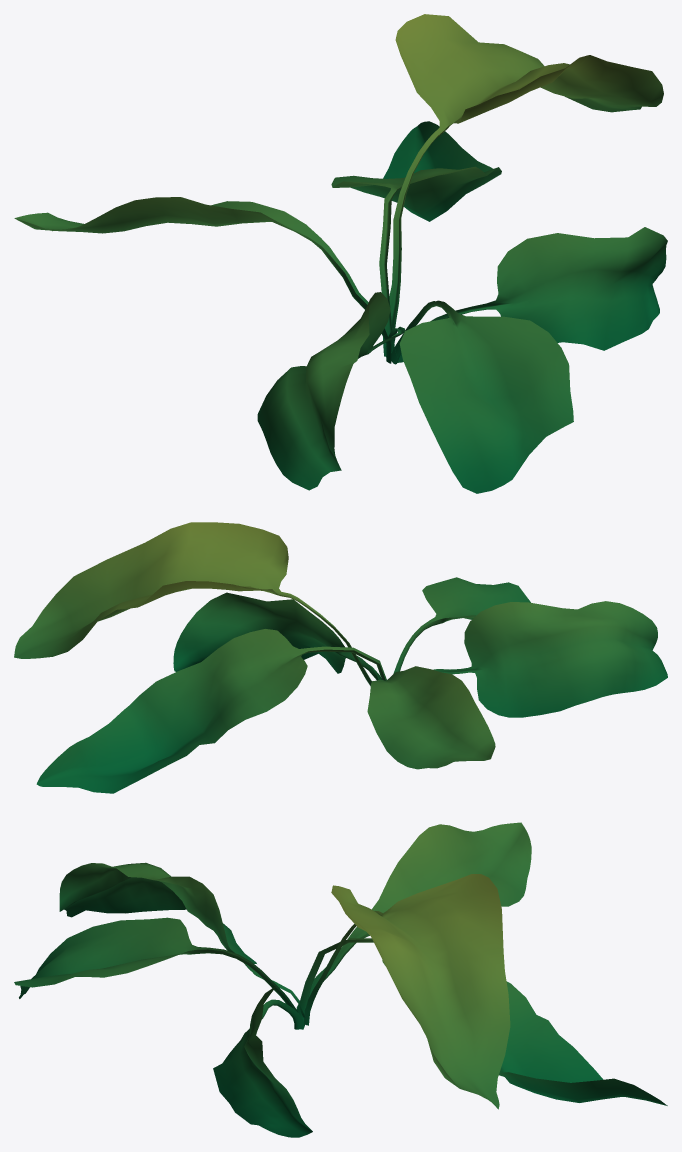
Rendered from weed_plant_02_1.glb.
The picture shows the model from 3 angles, top to bottom: view 1: azimuth 30°, elevation 25°; view 2: azimuth 150°, elevation 25°; view 3: azimuth 270°, elevation 25°; orthographic projection. The views are drawn at different scales.
Parts seen in each view (by area): view 1: weed_plant_02_b_LOD0; view 2: weed_plant_02_b_LOD0; view 3: weed_plant_02_b_LOD0.
Boxes of the visible parts, x1,y1,x2,y2 form: weed_plant_02_b_LOD0: [14, 14, 667, 493]; weed_plant_02_b_LOD0: [14, 522, 667, 793]; weed_plant_02_b_LOD0: [14, 822, 667, 1137].
Bounding box in the file's own units: 0.1875 × 0.0677 × 0.1985.
